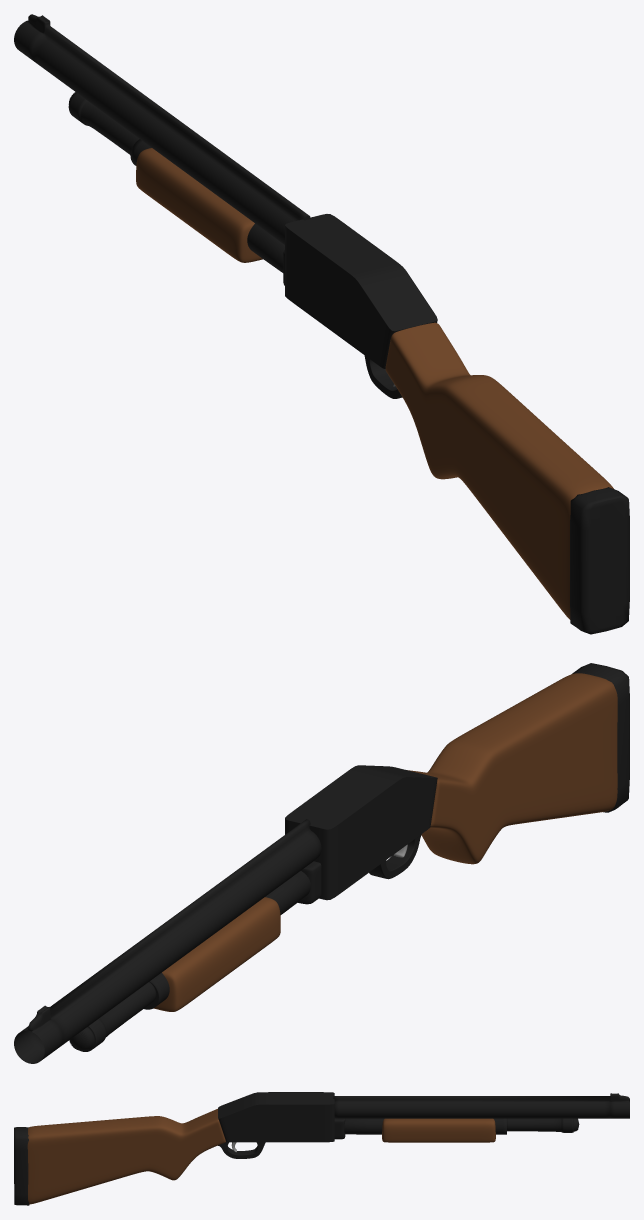
The model's file is Shotgun.glb.
3 renders of one model, top to bottom at view 1: azimuth 30°, elevation 25°; view 2: azimuth 150°, elevation 25°; view 3: azimuth 270°, elevation 25°, orthographic. The views are drawn at different scales.
Parts seen in each view (by area): view 1: Cube, Cube.002, Cylinder, Cube.001, Cube.004, Cylinder.002, Cylinder.001; view 2: Cube, Cylinder, Cube.002, Cube.004, Cube.001, Cylinder.002, Cylinder.001, Cube.005; view 3: Cube, Cylinder, Cube.002, Cube.004, Cube.001, Cylinder.002, Cylinder.001, Cube.005.
Part boxes in pixels (x1,y1,x2,y2): Cube: [385, 322, 613, 619]; Cube.002: [285, 214, 437, 398]; Cylinder: [14, 14, 310, 244]; Cube.001: [570, 487, 629, 634]; Cube.004: [136, 148, 262, 262]; Cylinder.002: [68, 92, 139, 154]; Cylinder.001: [130, 139, 284, 272]; Cube: [407, 673, 617, 864]; Cylinder: [14, 819, 321, 1063]; Cube.002: [285, 765, 437, 900]; Cube.004: [153, 897, 280, 1011]; Cube.001: [572, 663, 629, 812]; Cylinder.002: [69, 982, 156, 1051]; Cylinder.001: [144, 871, 310, 1009]; Cube.005: [298, 861, 321, 904]; Cube: [27, 1109, 225, 1204]; Cylinder: [333, 1093, 629, 1118]; Cube.002: [218, 1092, 334, 1158]; Cube.004: [382, 1118, 495, 1142]; Cube.001: [14, 1127, 29, 1205]; Cylinder.002: [507, 1118, 579, 1132]; Cylinder.001: [344, 1118, 506, 1134]; Cube.005: [334, 1118, 345, 1139].
Bounding box in the file's own units: 0.2029 × 0.8058 × 4.16.
